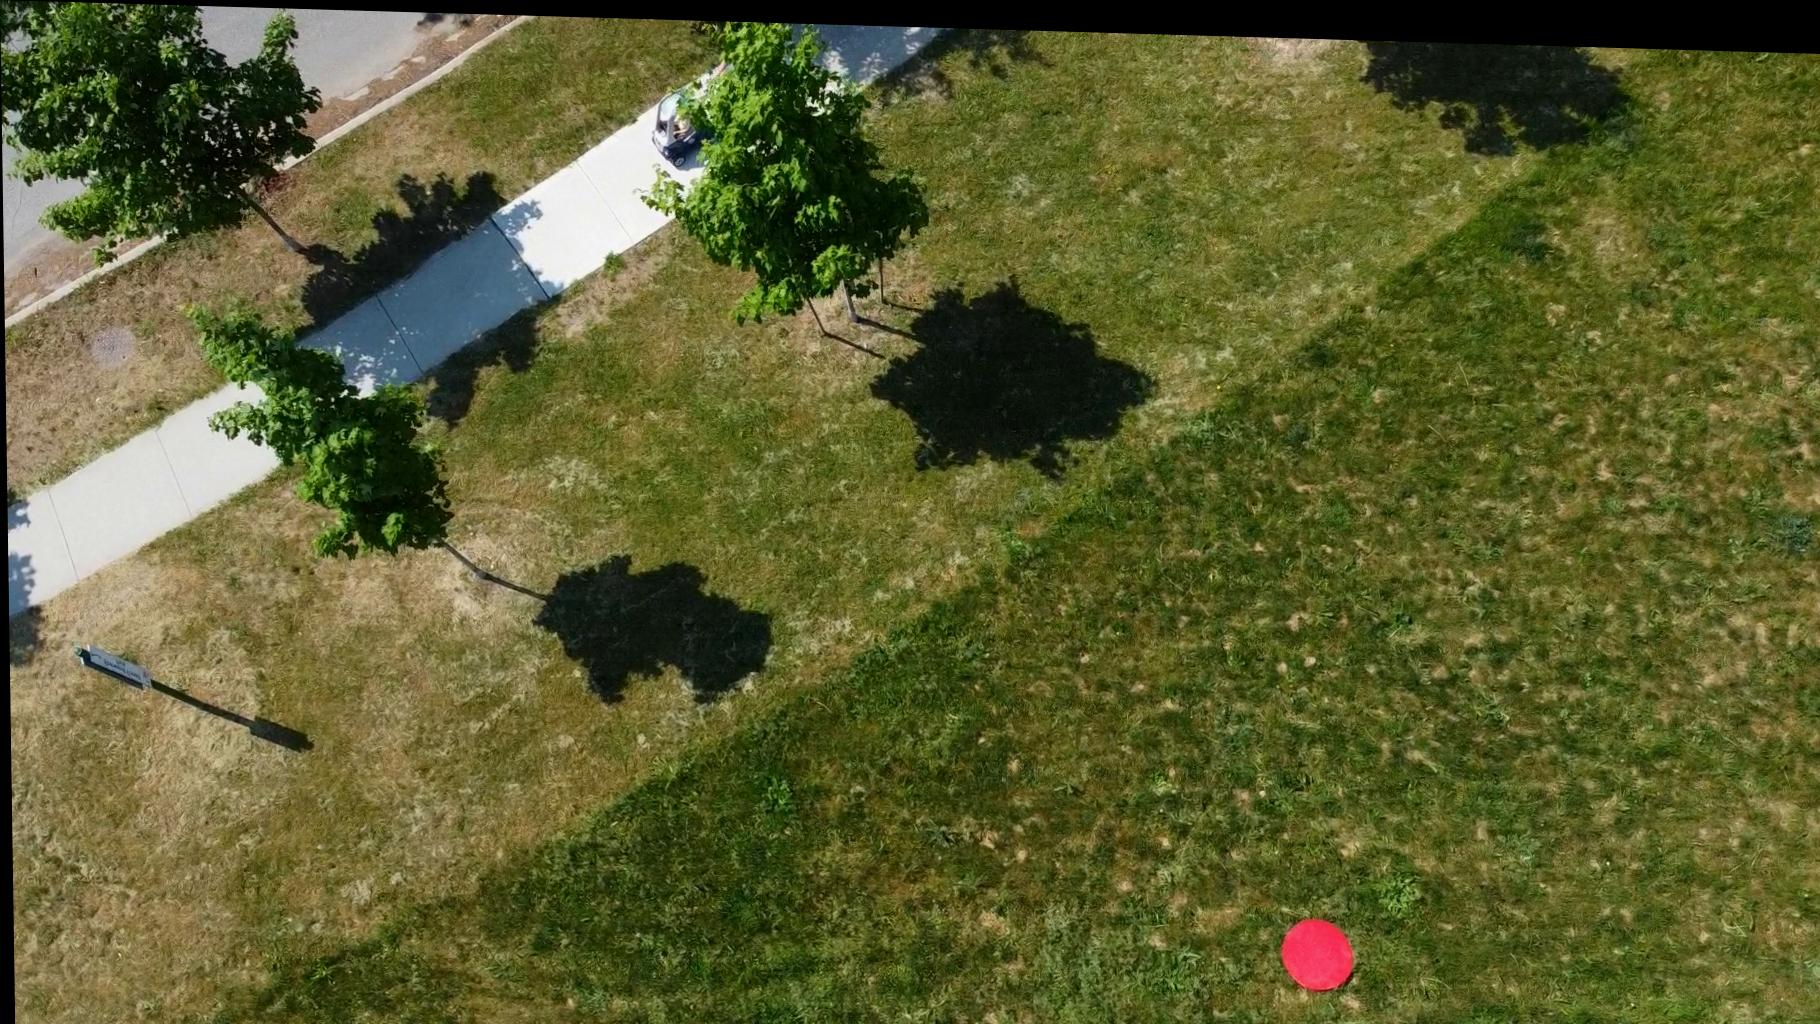Red: (1276, 909, 1355, 986)
